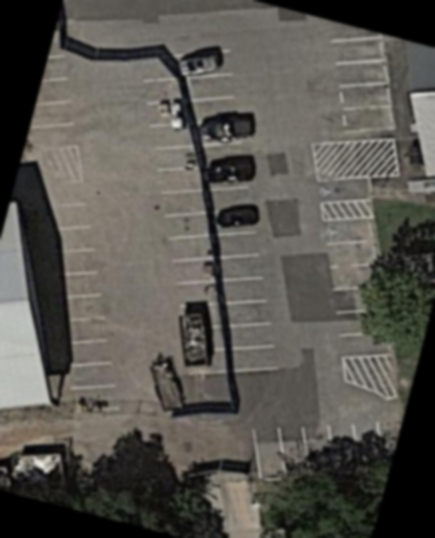parkingspot: (138, 48, 282, 376), (32, 199, 124, 415), (144, 123, 221, 310), (318, 216, 394, 361), (248, 419, 389, 482), (324, 19, 397, 138), (27, 52, 81, 152), (312, 176, 374, 206)
